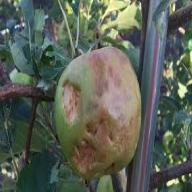apple: (55, 47, 140, 180)
